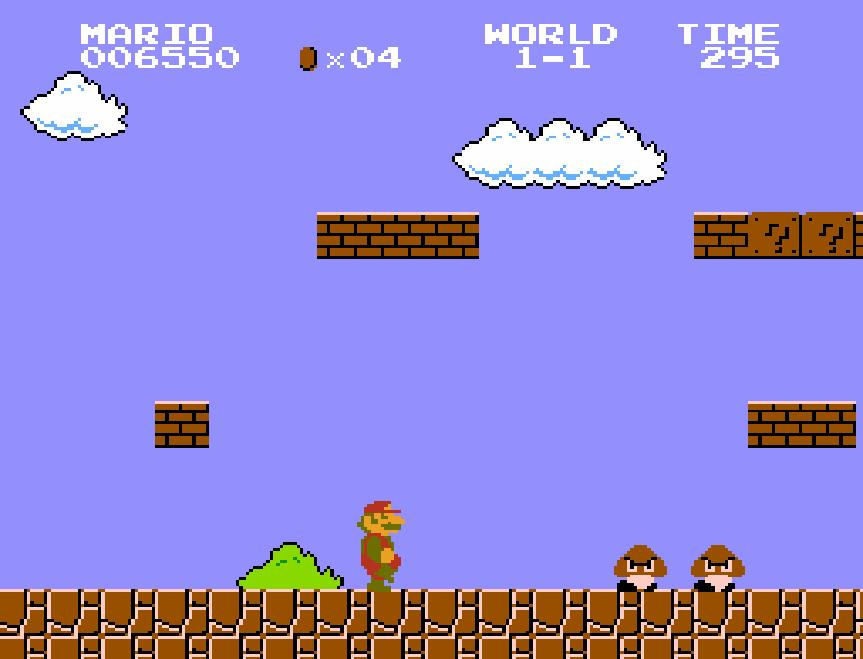big_mario: (352, 496, 410, 594)
